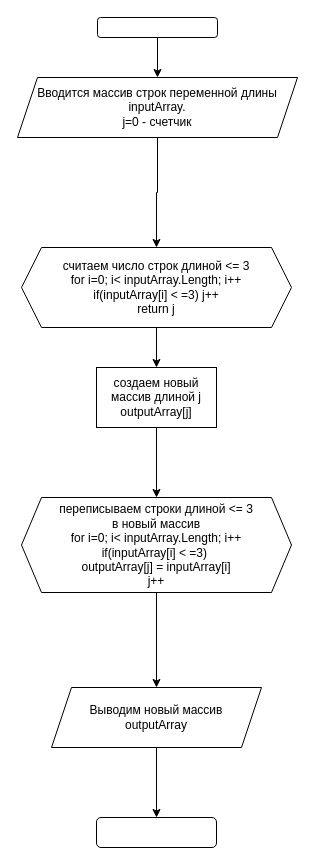
The diagram is 315 pixels wide and 865 high, and some of its shapes have lost their labels. Each missing label, with the box of its shape:
End: (96, 816, 216, 848)
Start: (96, 16, 218, 38)
